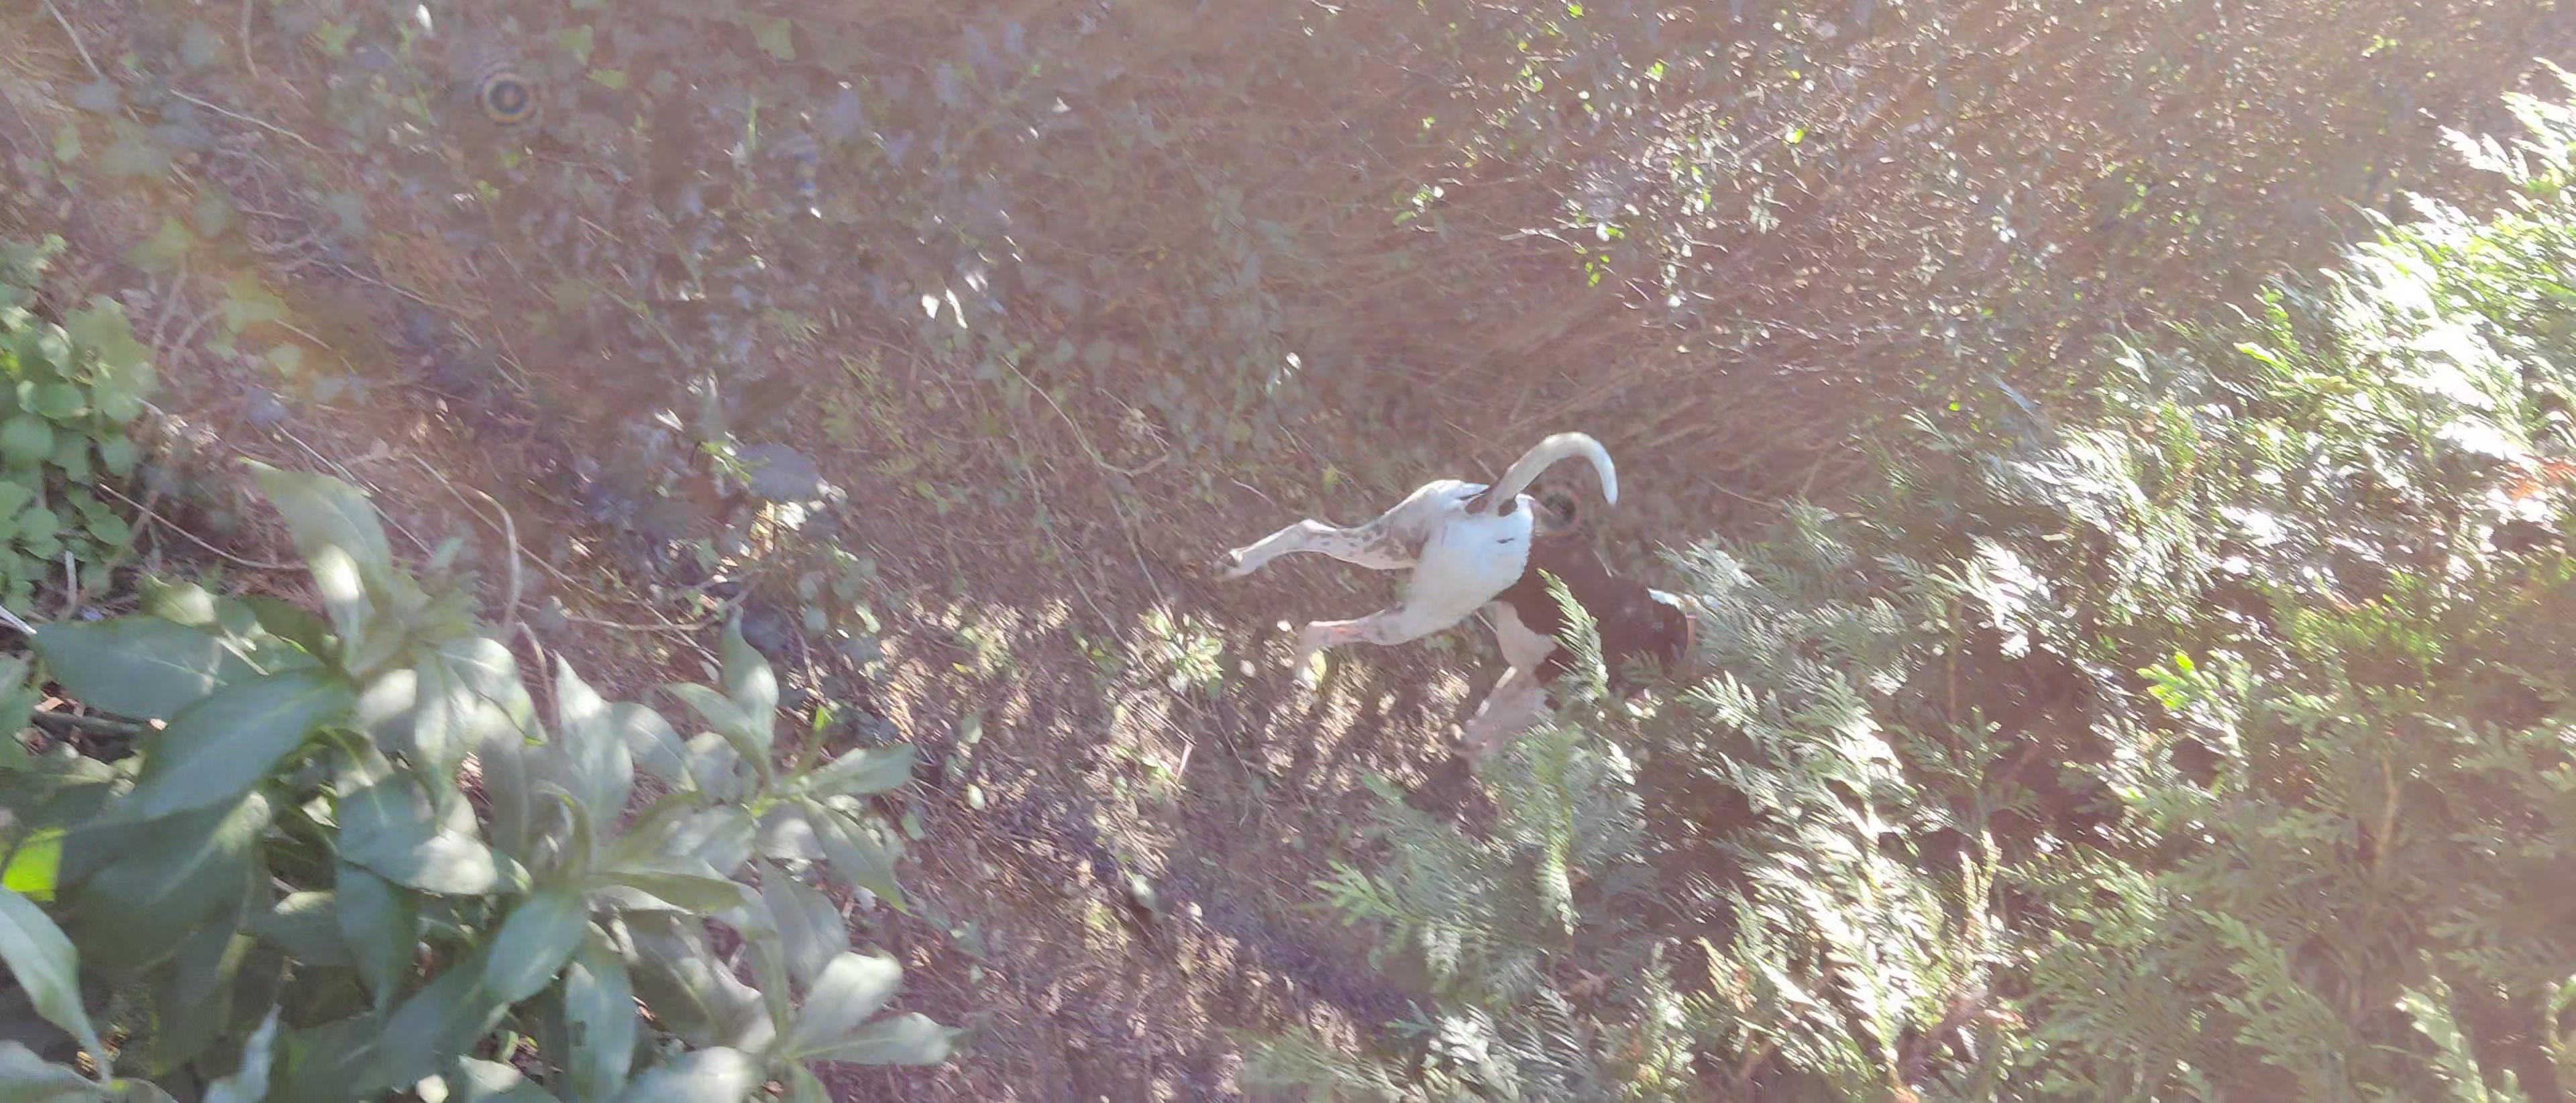Dog: (1201, 427, 1715, 764)
